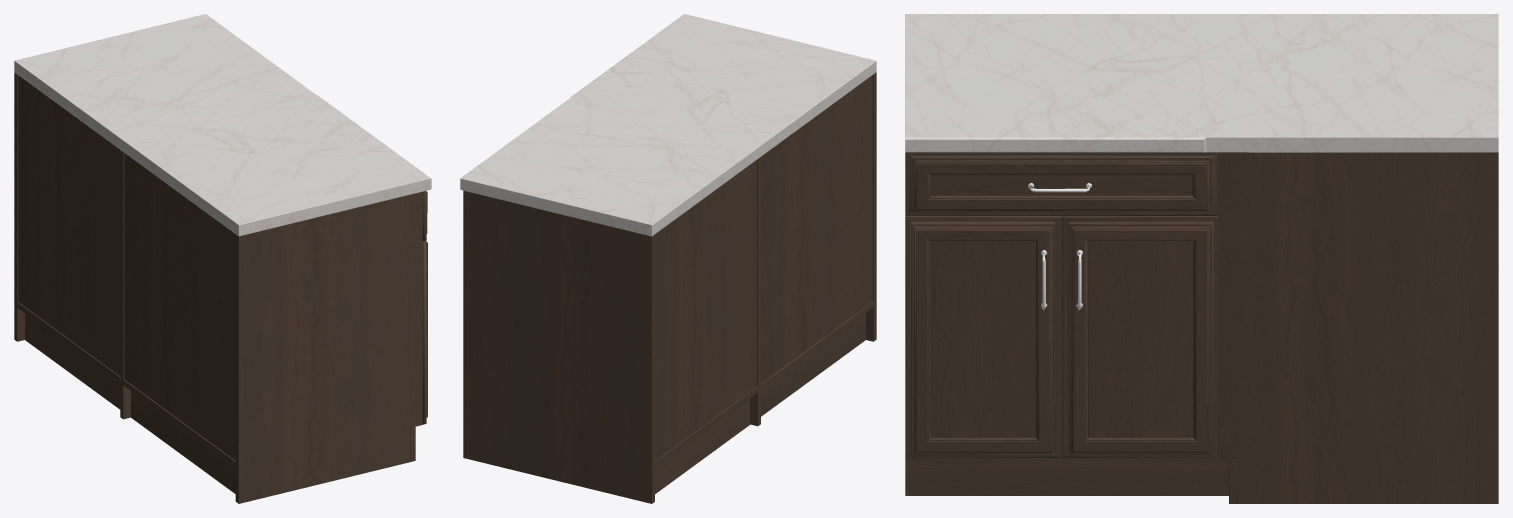
Rendered from fixture_cabinet_pantry_a01.glb.
3 views of the same model, side by side, from view 1: azimuth 30°, elevation 25°; view 2: azimuth 150°, elevation 25°; view 3: azimuth 270°, elevation 25° (orthographic). The views are drawn at different scales.
Visible parts, largest first — view 1: sm_fixture_cabinet_pantry_a01_01; view 2: sm_fixture_cabinet_pantry_a01_01; view 3: sm_fixture_cabinet_pantry_a01_01.
Part boxes in pixels (left/top/right/bottom): sm_fixture_cabinet_pantry_a01_01: left=14, top=14, right=431, bottom=503; sm_fixture_cabinet_pantry_a01_01: left=460, top=14, right=876, bottom=503; sm_fixture_cabinet_pantry_a01_01: left=905, top=14, right=1498, bottom=503.
Size of the model in its own units: 0.682 by 0.9011 by 1.32.
12 materials, 12 textured.
